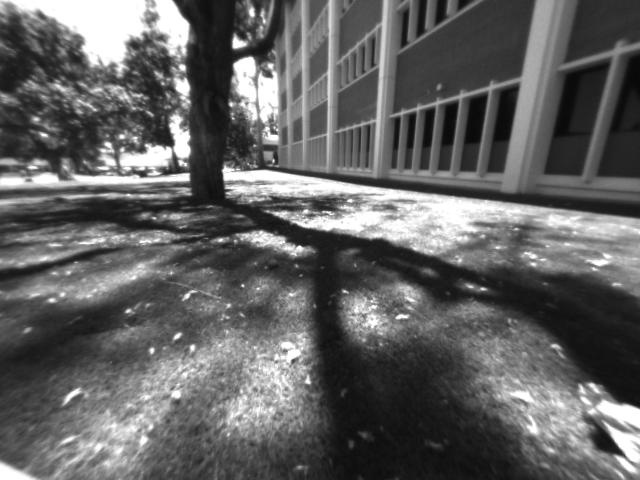dogtoy: (262, 251, 285, 274)
